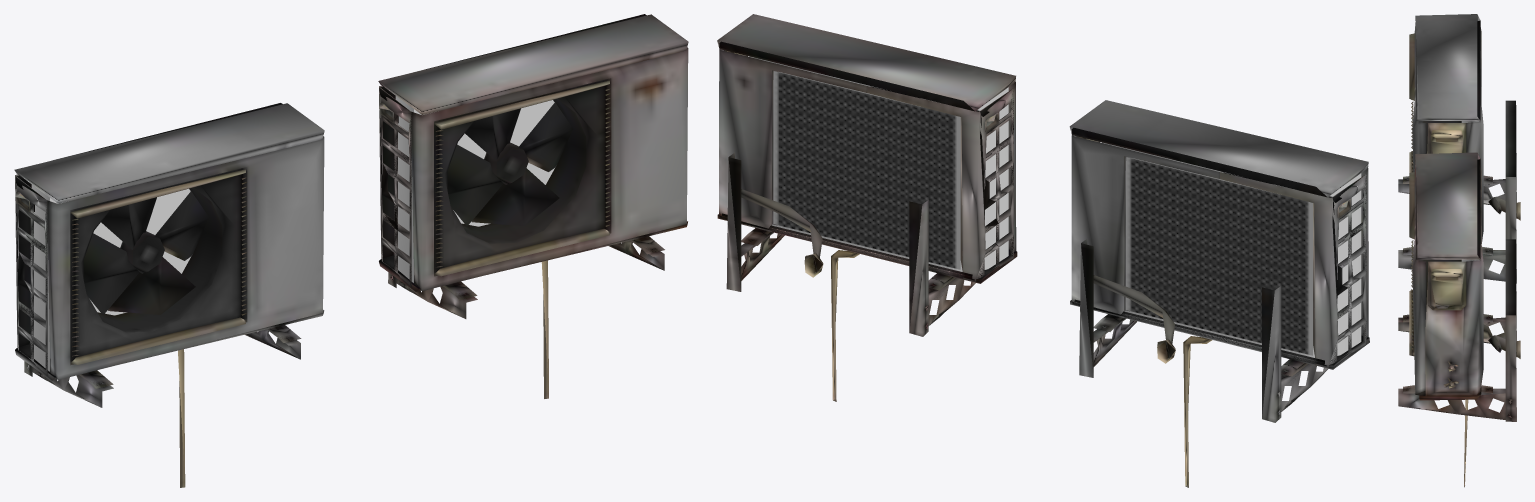
Rendered from exterior_aircon_unit_lod2.glb.
3 views of the same model, side by side, from view 1: azimuth 30°, elevation 25°; view 2: azimuth 150°, elevation 25°; view 3: azimuth 270°, elevation 25° (orthographic). The views are drawn at different scales.
Parts seen in each view (by area): view 1: exterior_aircon_unit, exterior_aircon_unit_rusted; view 2: exterior_aircon_unit, exterior_aircon_unit_rusted; view 3: exterior_aircon_unit_rusted, exterior_aircon_unit.
Boxes of the visible parts, bbox=[...] form: exterior_aircon_unit: bbox=[14, 103, 324, 487]; exterior_aircon_unit_rusted: bbox=[378, 14, 688, 398]; exterior_aircon_unit: bbox=[1069, 100, 1369, 487]; exterior_aircon_unit_rusted: bbox=[717, 14, 1017, 401]; exterior_aircon_unit_rusted: bbox=[1398, 152, 1520, 487]; exterior_aircon_unit: bbox=[1398, 14, 1520, 283].
Size of the model in its own units: 1.8 by 0.9214 by 0.3741.
Materials: 4 (4 with a texture image).
